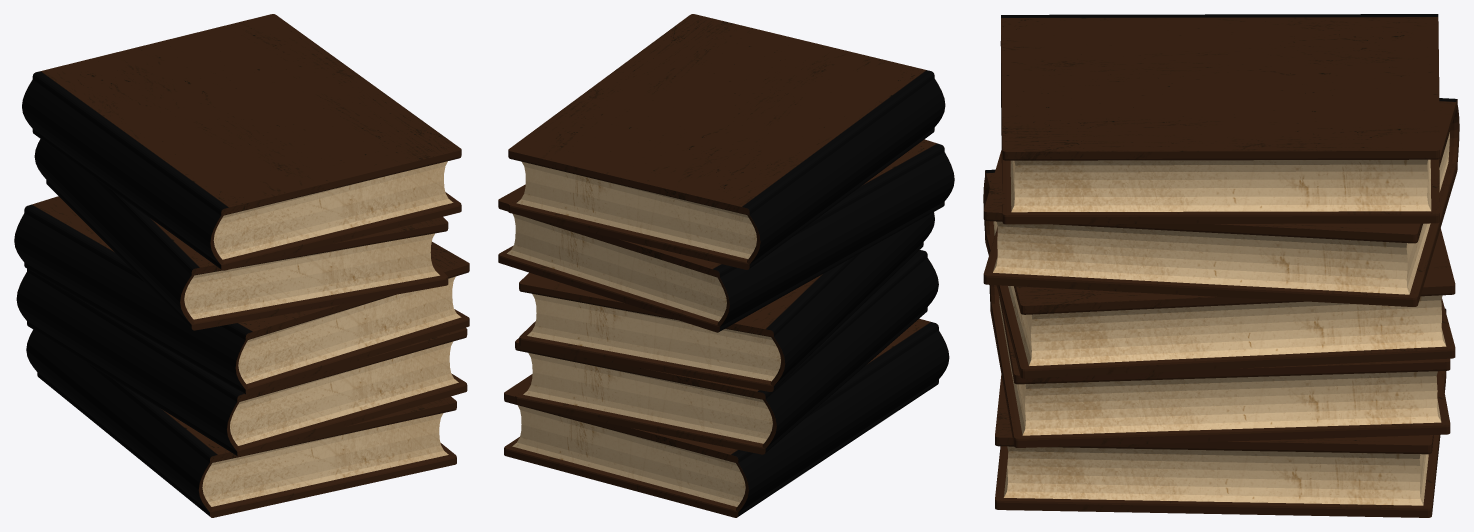
The model's file is StackedBooks.fbx.
3 views of the same model, side by side, from view 1: azimuth 30°, elevation 25°; view 2: azimuth 150°, elevation 25°; view 3: azimuth 270°, elevation 25° (orthographic). The views are drawn at different scales.
Visible parts, largest first — view 1: Bookstack; view 2: Bookstack; view 3: Bookstack.
Part boxes in pixels (x1,y1,x2,y2): Bookstack: (14, 14, 469, 517); Bookstack: (498, 14, 954, 517); Bookstack: (983, 14, 1459, 517).
Bounding box in the file's own units: 10.15 × 10.34 × 12.3.
1 material, 1 textured.
